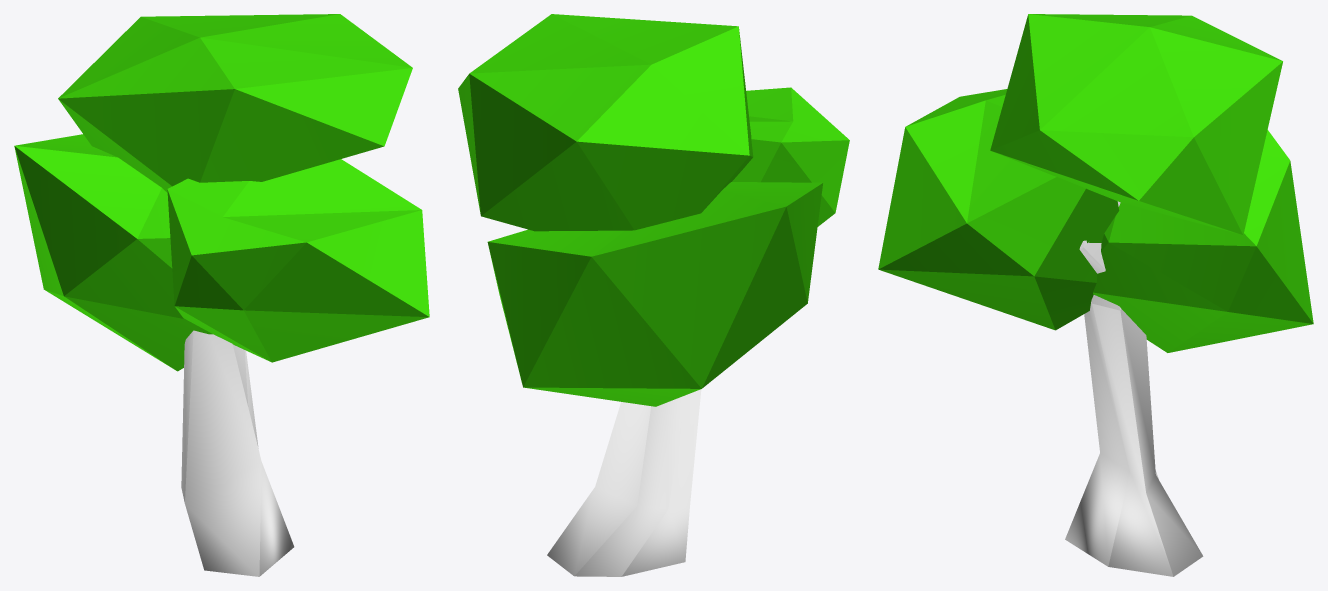
File: tree.fbx
3 views of the same model, side by side, from view 1: azimuth 30°, elevation 25°; view 2: azimuth 150°, elevation 25°; view 3: azimuth 270°, elevation 25° (orthographic).
Parts seen in each view (by area): view 1: Plane; view 2: Plane; view 3: Plane.
Part boxes in pixels (x1=…): Plane: x1=14, y1=14, x2=429, y2=576; Plane: x1=458, y1=14, x2=849, y2=576; Plane: x1=878, y1=14, x2=1313, y2=576.
Size of the model in its own units: 2.31 by 3.13 by 2.43.
